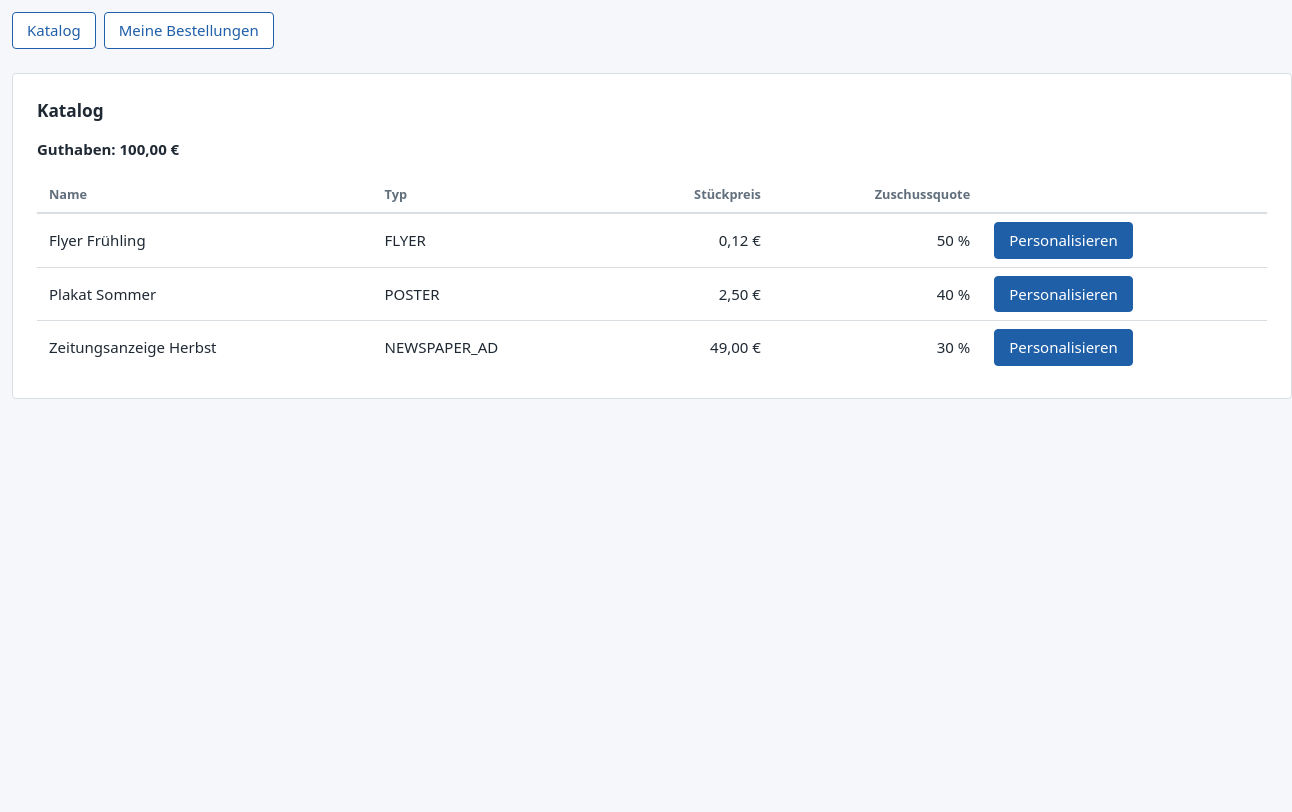
Test: PartnerPage › ui3_personalizeOpensEditorForTemplate
Click the button "Personalisieren" in the row of "Plakat Sommer" at [1064, 294], box [994, 276, 1133, 312]
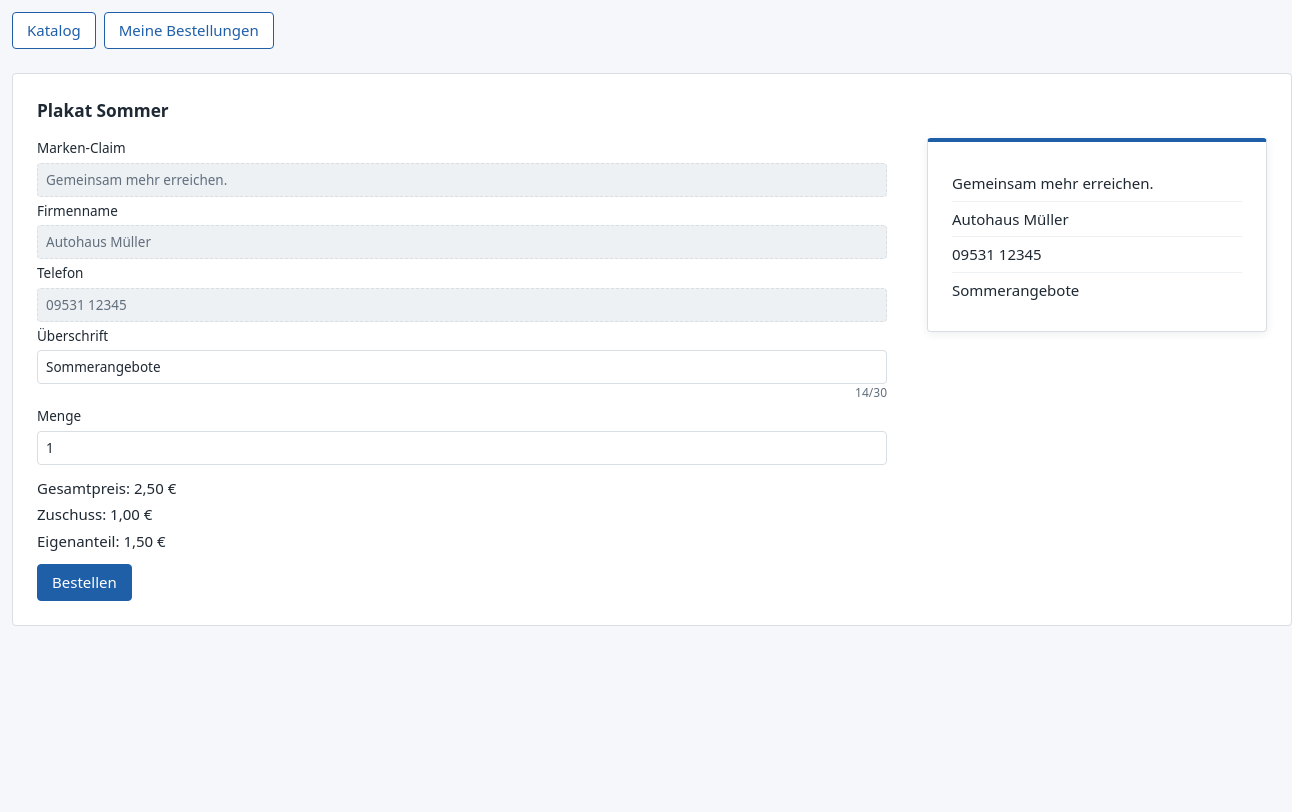
Expected: the heading "Plakat Sommer" is shown, [37, 98, 169, 122]
Expected: the field labelled "Telefon" holds "09531 12345", [37, 288, 887, 322]
